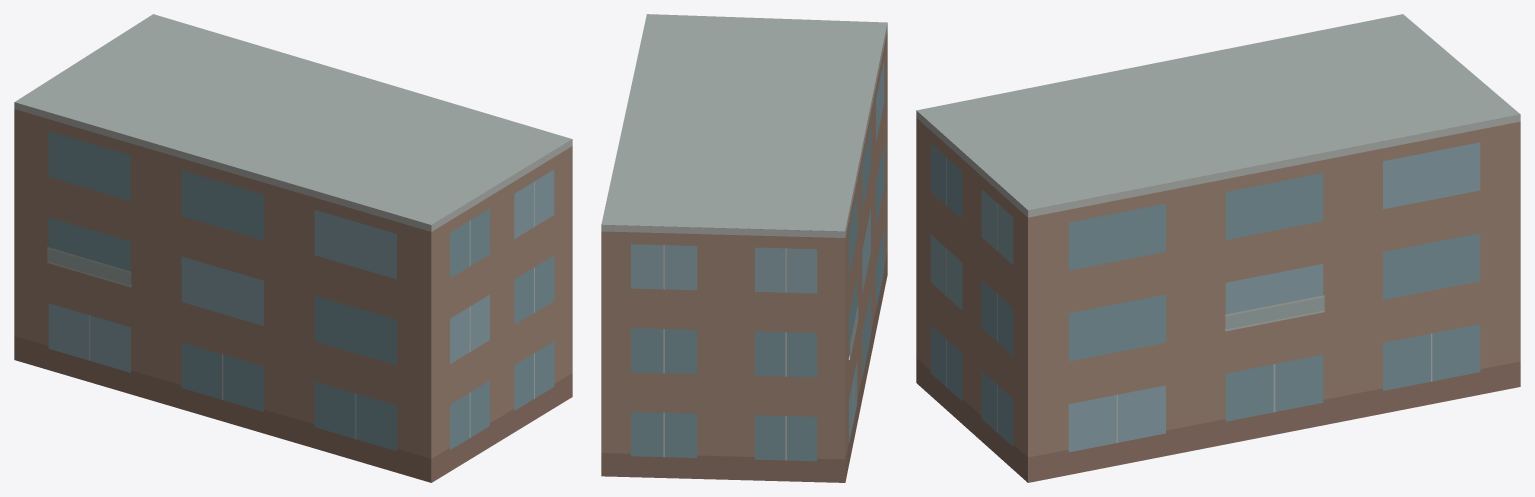
Rendered from survey-upis-32708291.glb.
3 views of the same model, side by side, from view 1: azimuth 30°, elevation 25°; view 2: azimuth 150°, elevation 25°; view 3: azimuth 270°, elevation 25° (orthographic). The views are drawn at different scales.
Parts seen in each view (by area): view 1: survey-upis-32708291.tmp; view 2: survey-upis-32708291.tmp; view 3: survey-upis-32708291.tmp.
Boxes of the visible parts, x1,y1,x2,y2 form: survey-upis-32708291.tmp: (14,14,572,482); survey-upis-32708291.tmp: (601,14,887,482); survey-upis-32708291.tmp: (916,14,1520,482).
Bounding box in the file's own units: 14.15 × 9.15 × 18.4.
